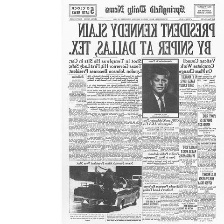news_paper: (62, 0, 223, 224)
